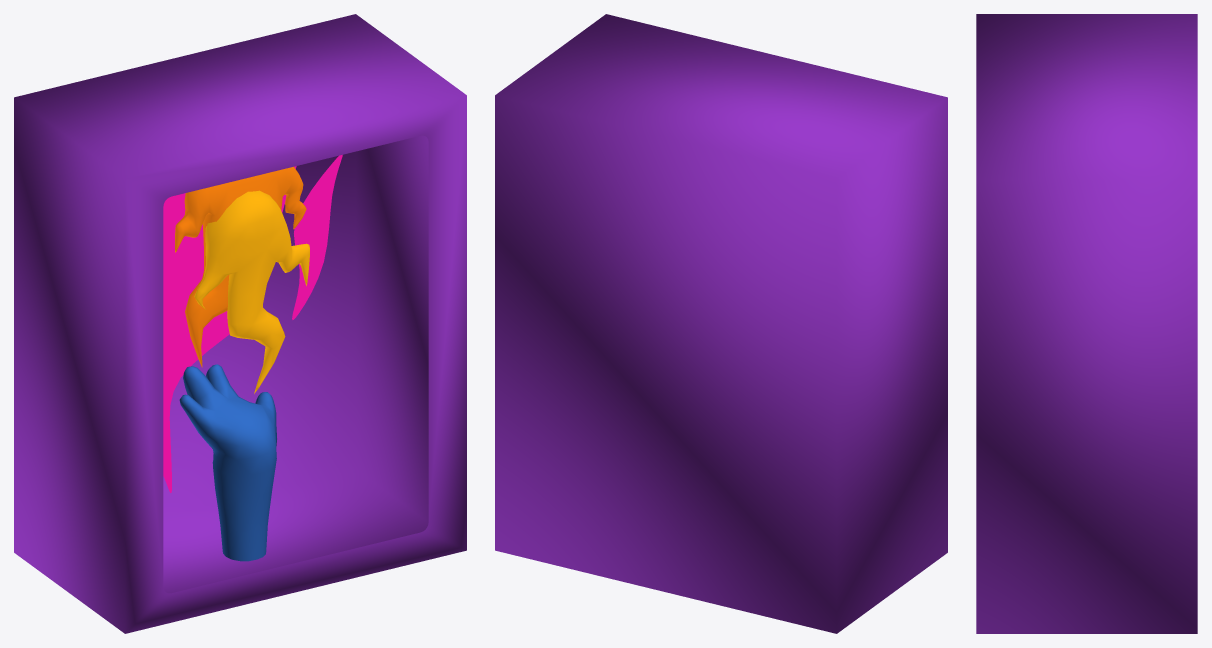
Rendered from 1_Fireball.glb.
3 renders of one model, left to right at view 1: azimuth 30°, elevation 25°; view 2: azimuth 150°, elevation 25°; view 3: azimuth 270°, elevation 25°, orthographic.
Visible parts, largest first — view 1: 1_Fireball_bg, 1_Fireball; view 2: 1_Fireball_bg; view 3: 1_Fireball_bg.
Boxes of the visible parts, left/top/right/bottom form: 1_Fireball_bg: left=14, top=14, right=466, bottom=633; 1_Fireball: left=163, top=155, right=342, bottom=561; 1_Fireball_bg: left=495, top=14, right=947, bottom=633; 1_Fireball_bg: left=976, top=14, right=1197, bottom=633.
Bounding box in the file's own units: 2.76 × 3.51 × 1.55.
2 materials, 2 textured.
